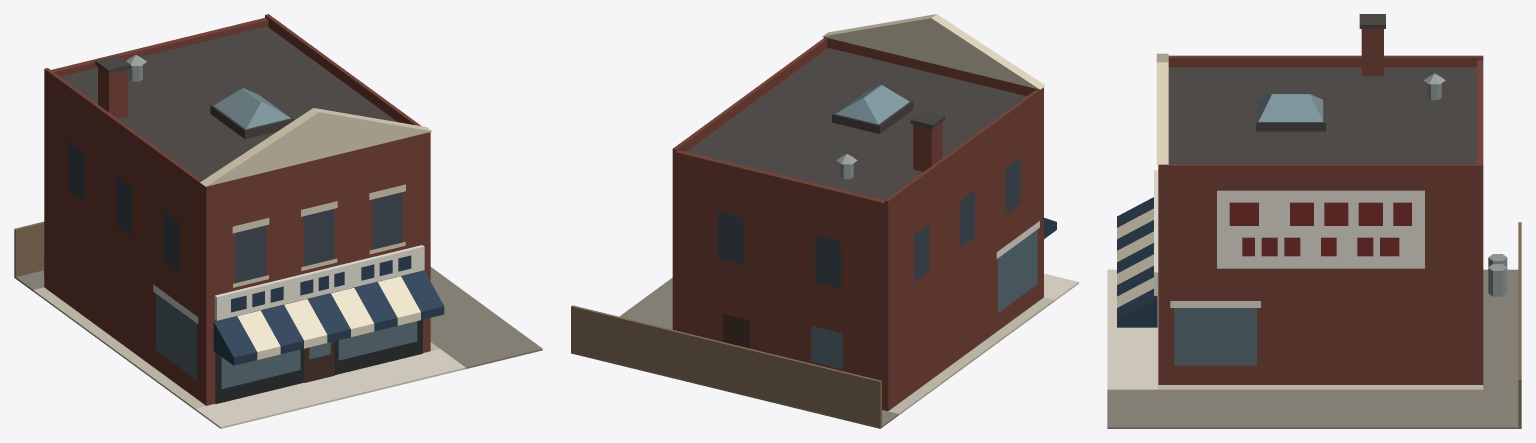
File: shop_c.glb
3 views of the same model, side by side, from view 1: azimuth 30°, elevation 25°; view 2: azimuth 150°, elevation 25°; view 3: azimuth 270°, elevation 25° (orthographic). The views are drawn at different scales.
Visible parts, largest first — view 1: shop_c; view 2: shop_c; view 3: shop_c.
Boxes of the visible parts, <box> form: shop_c: <box>14,14,542,428</box>; shop_c: <box>571,14,1078,428</box>; shop_c: <box>1107,14,1521,428</box>.
Size of the model in its own units: 18 by 14.35 by 20.
